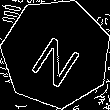N_NE: (26, 21, 87, 86)
